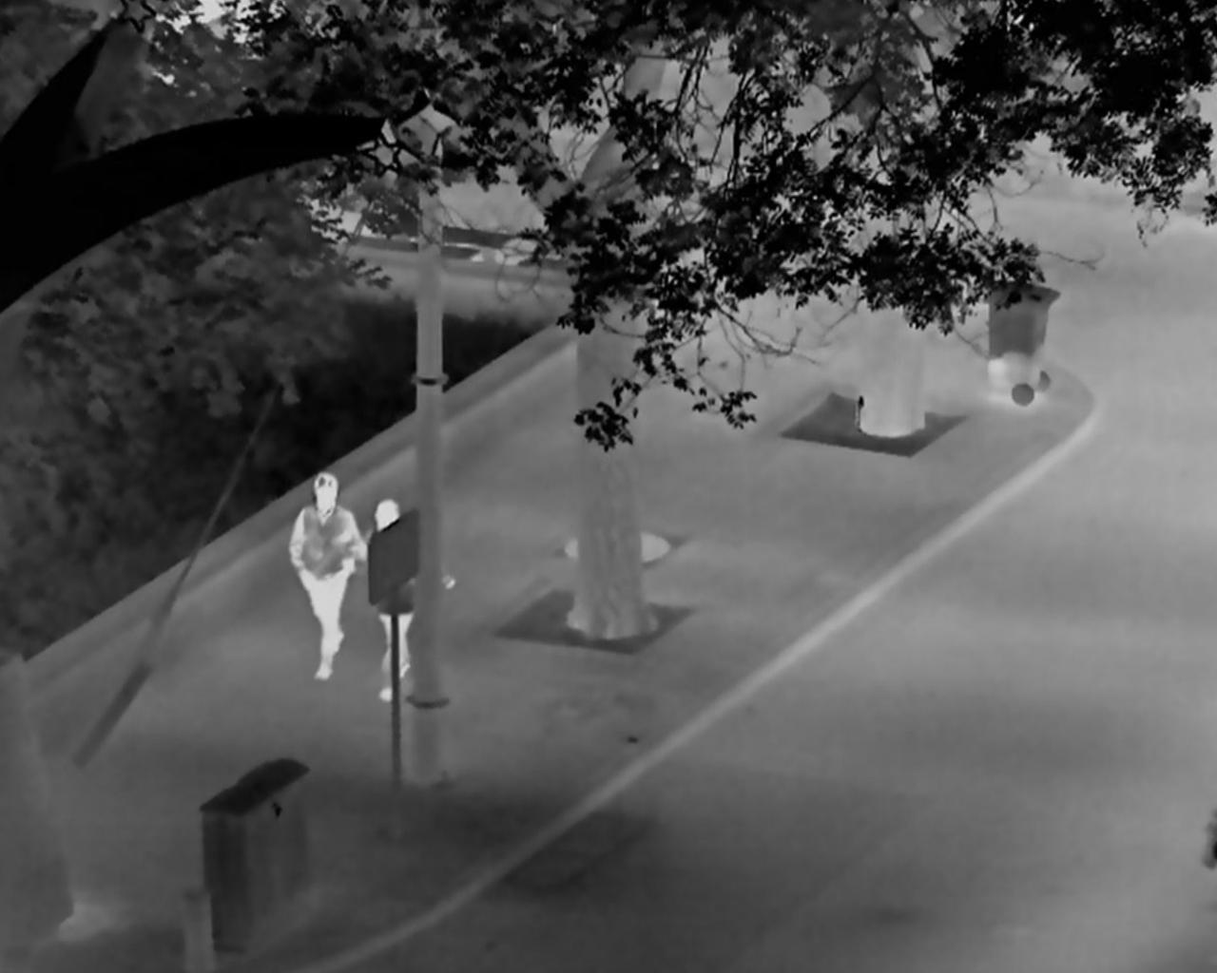person: (366, 499, 458, 703), (287, 470, 365, 682)
